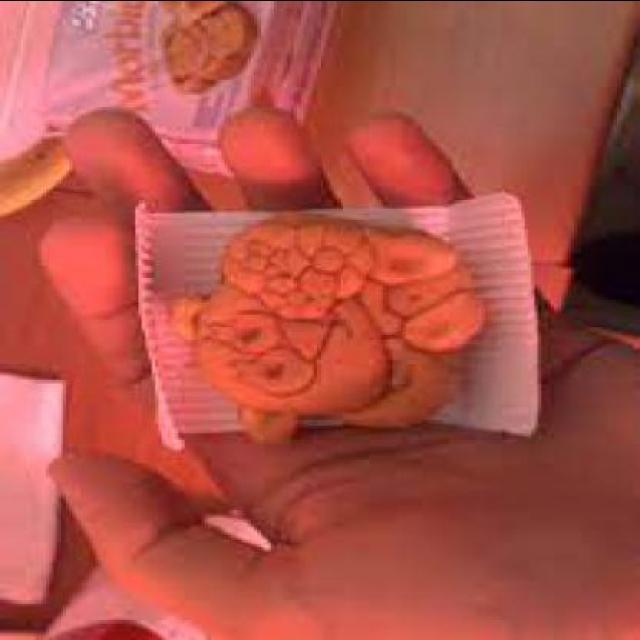Merendine packaged: (168, 212, 502, 448)
